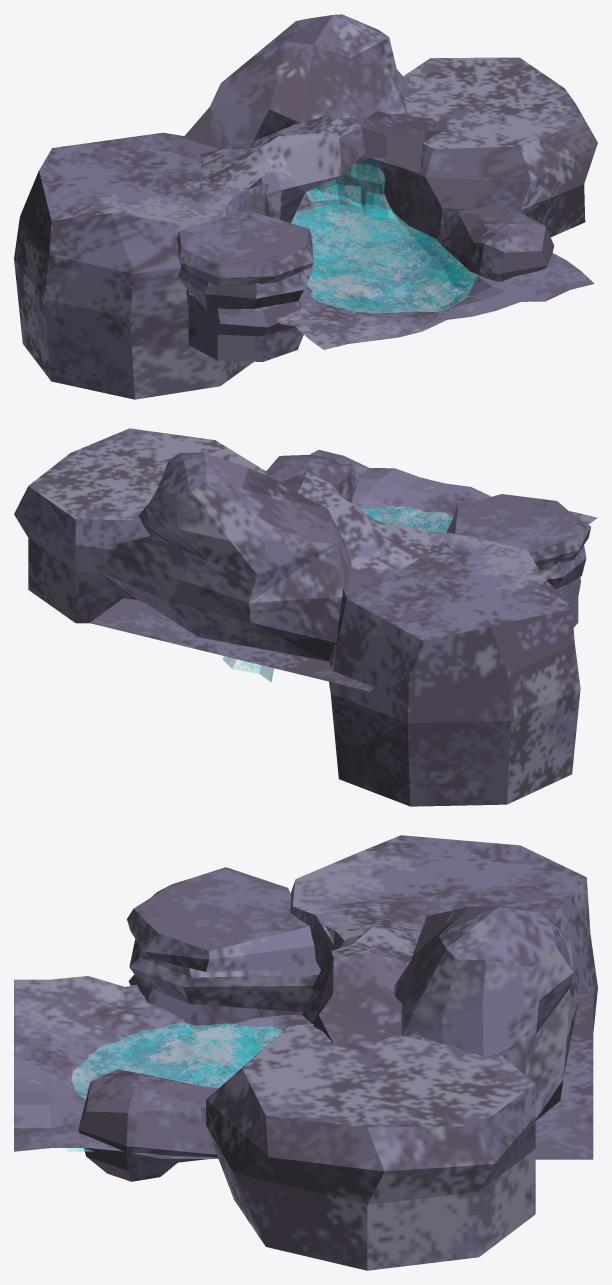
File: slime_environment.fbx
3 renders of one model, top to bottom at view 1: azimuth 30°, elevation 25°; view 2: azimuth 150°, elevation 25°; view 3: azimuth 270°, elevation 25°, orthographic. The views are drawn at different scales.
Parts seen in each view (by area): view 1: Ground Back, Plane, Plane.001; view 2: Ground Back, Plane, Plane.001; view 3: Ground Back, Plane.
Boxes of the visible parts, x1,y1,x2,y2 form: Ground Back: (14,14,597,399); Plane: (291,202,477,313); Plane.001: (306,158,396,221); Ground Back: (14,428,597,806); Plane: (361,505,453,532); Plane.001: (223,656,273,682); Ground Back: (14,835,597,1270); Plane: (66,1022,283,1151).
Bounding box in the file's own units: 19434 × 9763 × 14333.
Materials: 3 (3 with a texture image).
